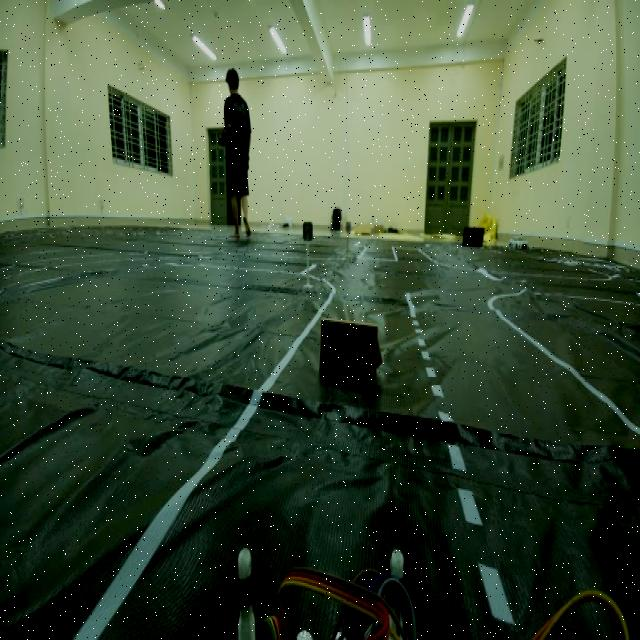roadblock: (312, 294, 388, 406)
